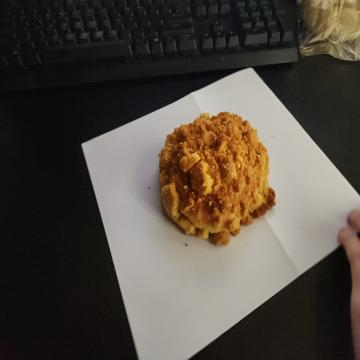soboru_bread: (159, 110, 273, 246)
